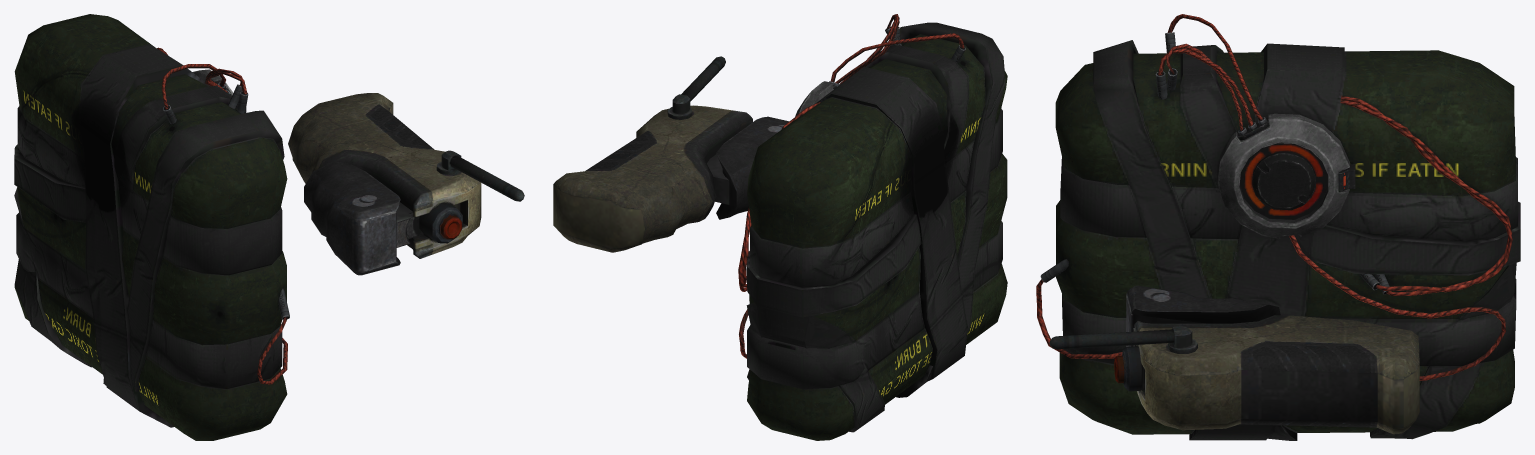
File: t6_wpn_c4_view_LOD0.obj
The picture shows the model from 3 angles, left to right: view 1: azimuth 30°, elevation 25°; view 2: azimuth 150°, elevation 25°; view 3: azimuth 270°, elevation 25°; orthographic projection. The views are drawn at different scales.
Visible parts, largest first — view 1: mtl_t6_wpn_c4, mtl_t6_wpn_c4_detonator; view 2: mtl_t6_wpn_c4, mtl_t6_wpn_c4_detonator; view 3: mtl_t6_wpn_c4, mtl_t6_wpn_c4_detonator.
Part boxes in pixels (box(x1,y1,x2,y2)): mtl_t6_wpn_c4: box(14, 14, 289, 440); mtl_t6_wpn_c4_detonator: box(288, 93, 524, 275); mtl_t6_wpn_c4: box(738, 14, 1007, 440); mtl_t6_wpn_c4_detonator: box(553, 56, 788, 252); mtl_t6_wpn_c4: box(1036, 14, 1520, 440); mtl_t6_wpn_c4_detonator: box(1049, 285, 1419, 434).
Size of the model in its own units: 21.37 by 20.55 by 22.69.
